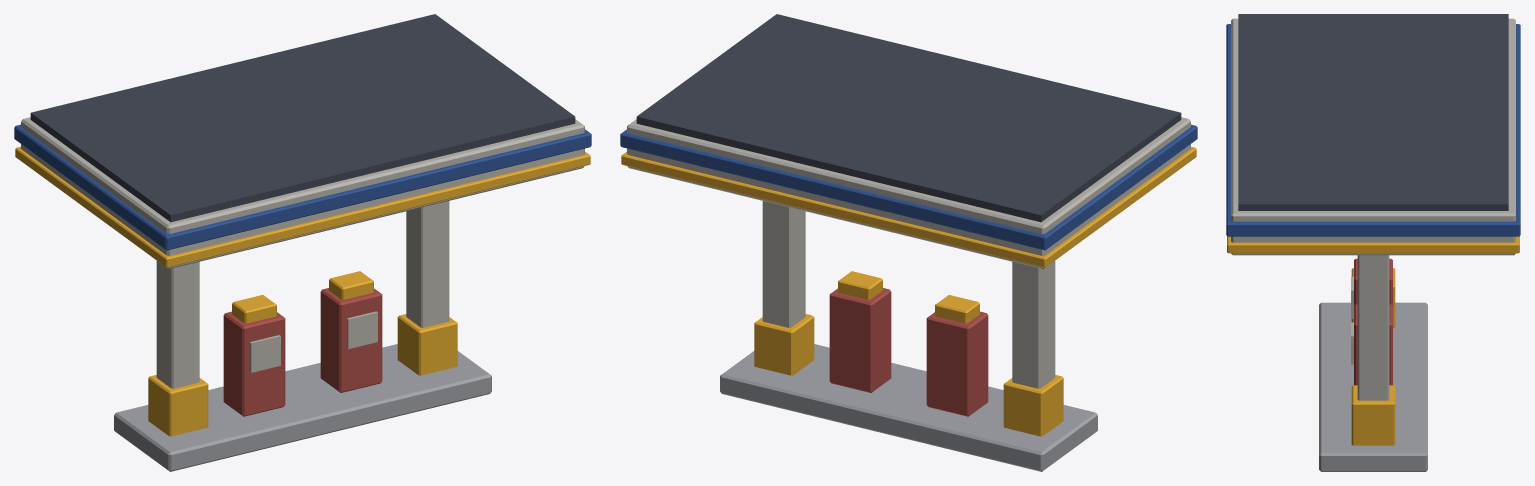
The model's file is Stylized_Landmark_GasStationCanopy.fbx.
3 views of the same model, side by side, from view 1: azimuth 30°, elevation 25°; view 2: azimuth 150°, elevation 25°; view 3: azimuth 270°, elevation 25° (orthographic). The views are drawn at different scales.
Parts seen in each view (by area): view 1: Stylized_Landmark_GasStationCanopy; view 2: Stylized_Landmark_GasStationCanopy; view 3: Stylized_Landmark_GasStationCanopy.
Boxes of the visible parts, x1,y1,x2,y2 form: Stylized_Landmark_GasStationCanopy: (14,14,591,471); Stylized_Landmark_GasStationCanopy: (620,14,1197,471); Stylized_Landmark_GasStationCanopy: (1226,14,1520,471).
Size of the model in its own units: 6.32 by 4.23 by 3.92.
